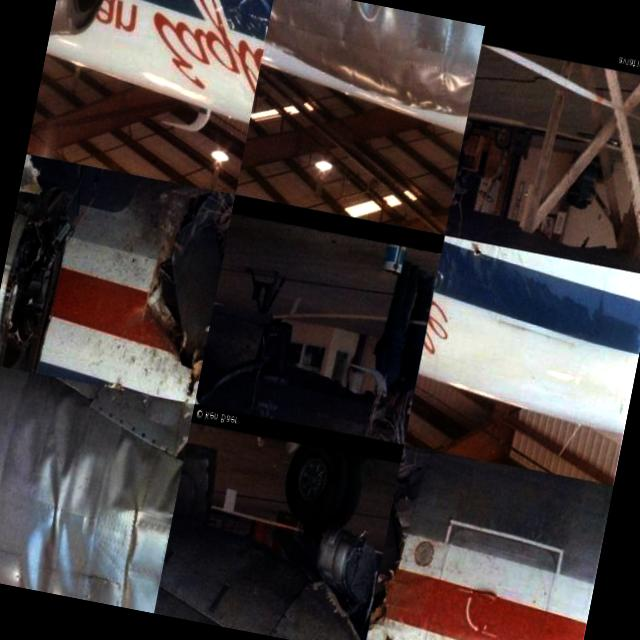dent: (0, 378, 193, 613)
